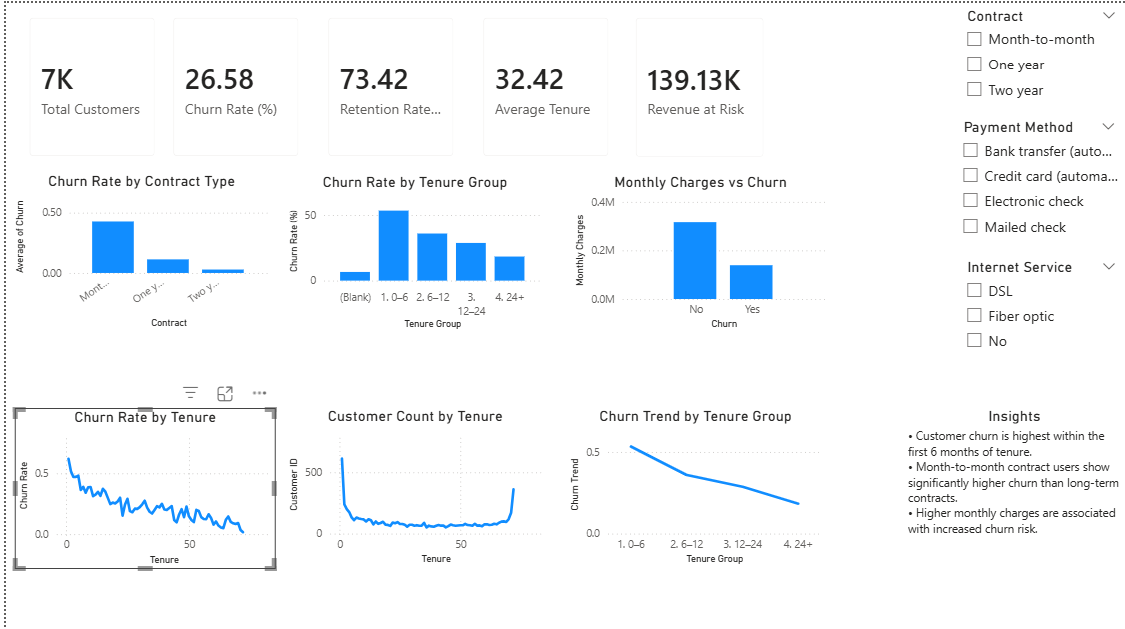

What the dashboard file says about the page in this screenshot:
{"tool":"powerbi","page":{"name":"Page 1","canvas":[1280,720],"ordinal":0},"visuals":[{"type":"cardVisual","fields":{"Data":["telco_churn_clean.Total Customers"]},"box":[10,0,177.9,192.8],"z":0},{"type":"cardVisual","fields":{"Data":["telco_churn_clean.Churn Rate (%)"]},"box":[174.2,0,177.9,192.8],"z":1},{"type":"cardVisual","fields":{"Data":["telco_churn_clean.Retention Rate (%)"]},"box":[352,0,177.9,192.8],"z":2},{"type":"cardVisual","fields":{"Data":["telco_churn_clean.Average Tenure"]},"box":[528.2,0,177.3,192.8],"z":3},{"type":"cardVisual","fields":{"Data":["telco_churn_clean.Revenue at Risk"]},"box":[703.3,0,180,193.3],"z":4},{"type":"clusteredColumnChart","title":"Churn Rate by Contract Type","fields":{"Category":["telco_churn_clean.Contract"],"Y":["Avg(telco_churn_clean.Churn_Flag)"]},"box":[5.3,192.6,298.9,183.7],"z":5},{"type":"clusteredColumnChart","title":"Churn Rate by Tenure Group","fields":{"Y":["telco_churn_clean.Churn Rate (%)"],"Category":["telco_churn_clean.Tenure_Group_Sorted"]},"box":[318,194,298,184],"z":6},{"type":"clusteredColumnChart","title":"Monthly Charges vs Churn","fields":{"Category":["telco_churn_clean.Churn"],"Y":["Sum(telco_churn_clean.MonthlyCharges)"]},"box":[646,194,296,184],"z":7},{"type":"slicer","fields":{"Values":["telco_churn_clean.Contract"]},"box":[1085,0,195,146.7],"z":8},{"type":"slicer","fields":{"Values":["telco_churn_clean.PaymentMethod"]},"box":[1081.7,126.7,198.3,160],"z":9},{"type":"slicer","fields":{"Values":["telco_churn_clean.InternetService"]},"box":[1085,286.7,195,128.3],"z":10},{"type":"lineChart","title":"Churn Rate by Tenure","fields":{"Category":["telco_churn_clean.tenure"],"Y":["Avg(telco_churn_clean.Churn_Flag)"]},"box":[10,462.9,298.6,184.3],"z":11},{"type":"lineChart","title":"Customer Count by Tenure","fields":{"Category":["telco_churn_clean.tenure"],"Y":["CountNonNull(telco_churn_clean.customerID)"]},"box":[318.8,461.2,298.8,185],"z":12},{"type":"lineChart","title":"Churn Trend by Tenure Group","fields":{"Category":["telco_churn_clean.Tenure_Group_Sorted"],"Y":["Avg(telco_churn_clean.Churn_Flag)"]},"box":[640,461.2,296.2,185],"z":13},{"type":"textbox","title":"Insights","box":[1026.2,461.2,253.8,166.2],"z":14}]}

Visuals, with their boxes in screenshot pixels (x1, y1, x2, y2), scaled from the page's 1280x720 canvas onto the 1125x629 screenshot:
cardVisual - telco_churn_clean.Total Customers: [9, 0, 165, 168]
cardVisual - telco_churn_clean.Churn Rate (%): [153, 0, 309, 168]
cardVisual - telco_churn_clean.Retention Rate (%): [309, 0, 466, 168]
cardVisual - telco_churn_clean.Average Tenure: [464, 0, 620, 168]
cardVisual - telco_churn_clean.Revenue at Risk: [618, 0, 776, 169]
"Churn Rate by Contract Type" clusteredColumnChart: [5, 168, 267, 329]
"Churn Rate by Tenure Group" clusteredColumnChart: [279, 169, 541, 330]
"Monthly Charges vs Churn" clusteredColumnChart: [568, 169, 828, 330]
slicer - telco_churn_clean.Contract: [954, 0, 1124, 128]
slicer - telco_churn_clean.PaymentMethod: [951, 111, 1124, 250]
slicer - telco_churn_clean.InternetService: [954, 250, 1124, 363]
"Churn Rate by Tenure" lineChart: [9, 404, 271, 565]
"Customer Count by Tenure" lineChart: [280, 403, 543, 565]
"Churn Trend by Tenure Group" lineChart: [562, 403, 823, 565]
"Insights" textbox: [902, 403, 1124, 548]
